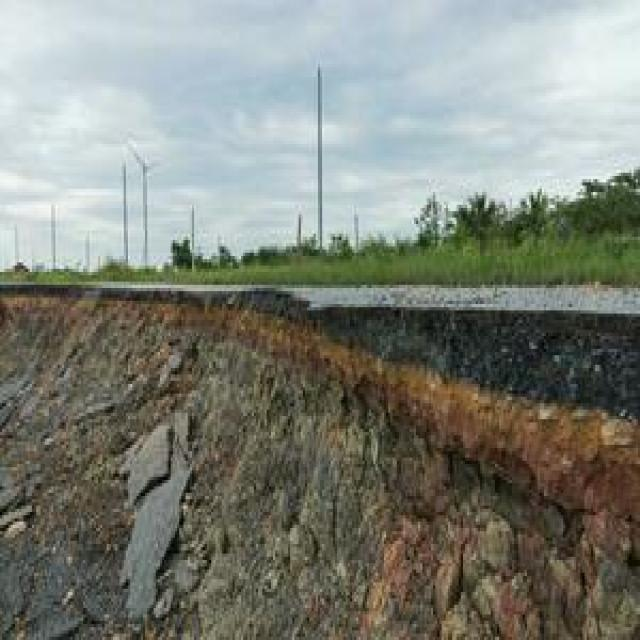road collapse: (0, 166, 640, 640)
